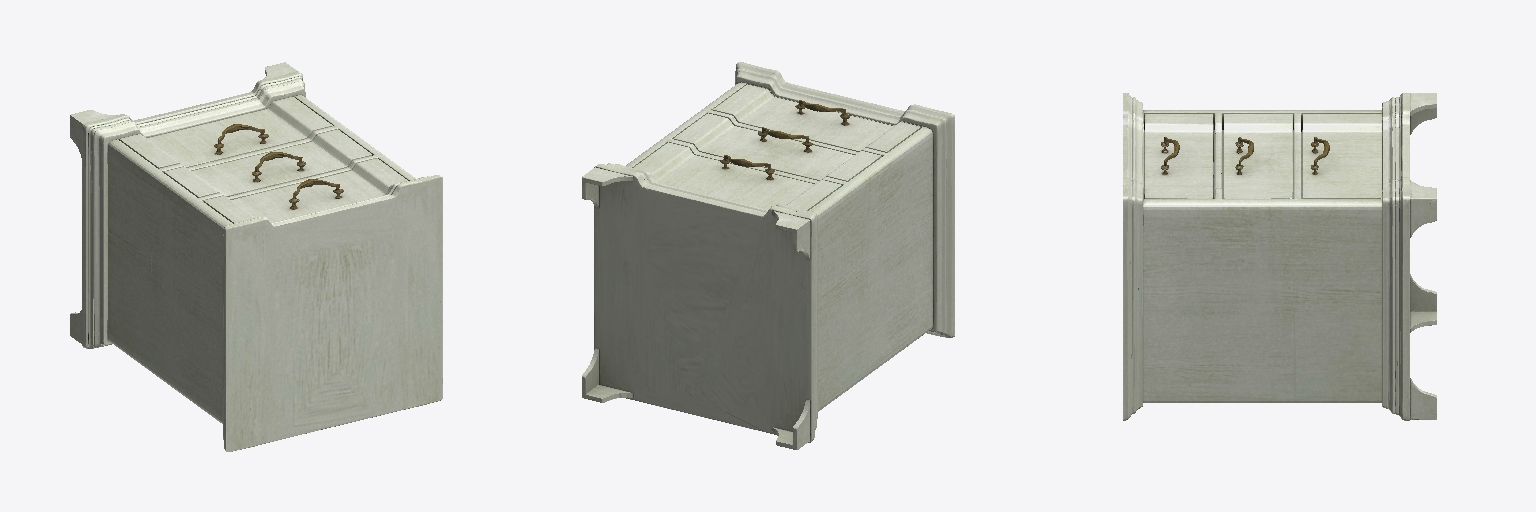
3 renders of one model, left to right at view 1: azimuth 30°, elevation 25°; view 2: azimuth 150°, elevation 25°; view 3: azimuth 270°, elevation 25°, orthographic.
Bounding box in the file's own units: 0.4863 × 0.4846 × 0.6072.
Materials: 1 (1 with a texture image).